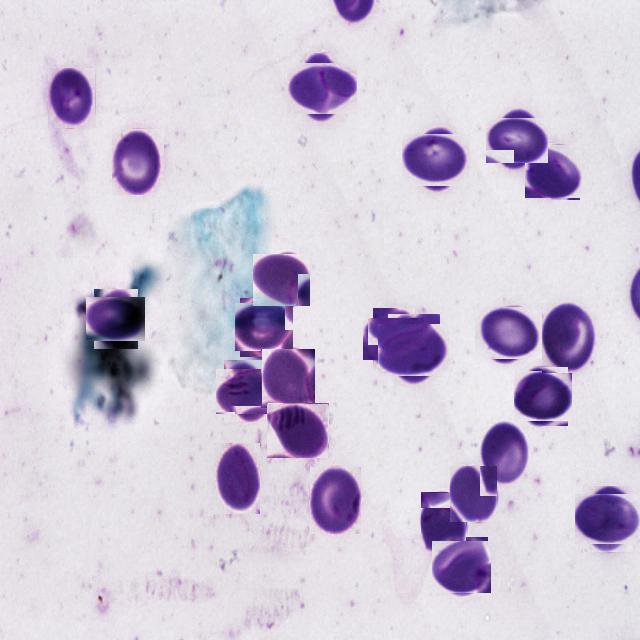red blood cell: (383, 319, 445, 381), (542, 302, 595, 373), (292, 58, 352, 119), (406, 130, 466, 190), (479, 303, 539, 363), (310, 466, 362, 534), (112, 129, 164, 195), (267, 403, 329, 458), (579, 490, 637, 548), (214, 444, 260, 516), (260, 349, 314, 408), (480, 422, 529, 486), (434, 538, 489, 594), (254, 253, 310, 308), (525, 144, 581, 199), (516, 369, 570, 424), (48, 67, 96, 128), (237, 300, 291, 354), (490, 113, 544, 167), (220, 364, 274, 418), (421, 492, 467, 552), (450, 465, 498, 522), (90, 293, 142, 345), (368, 313, 420, 365)
